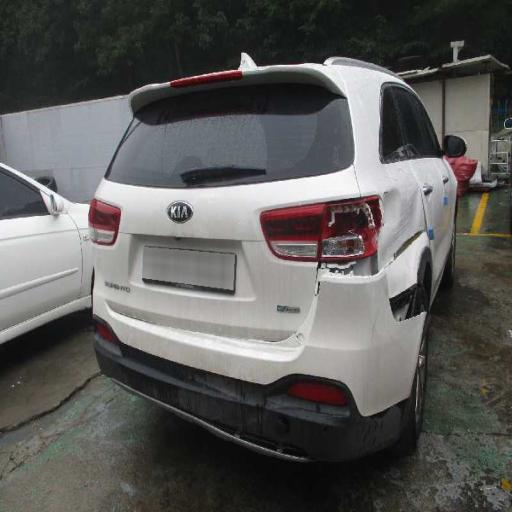broken: (288, 171, 400, 319)
